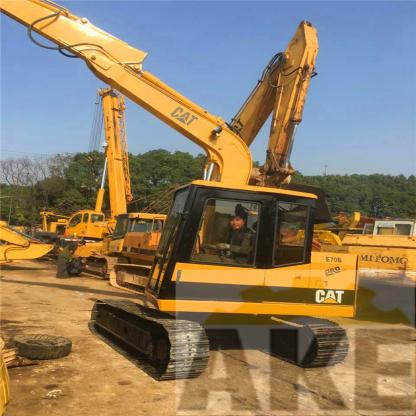excavator: (12, 2, 380, 384)
